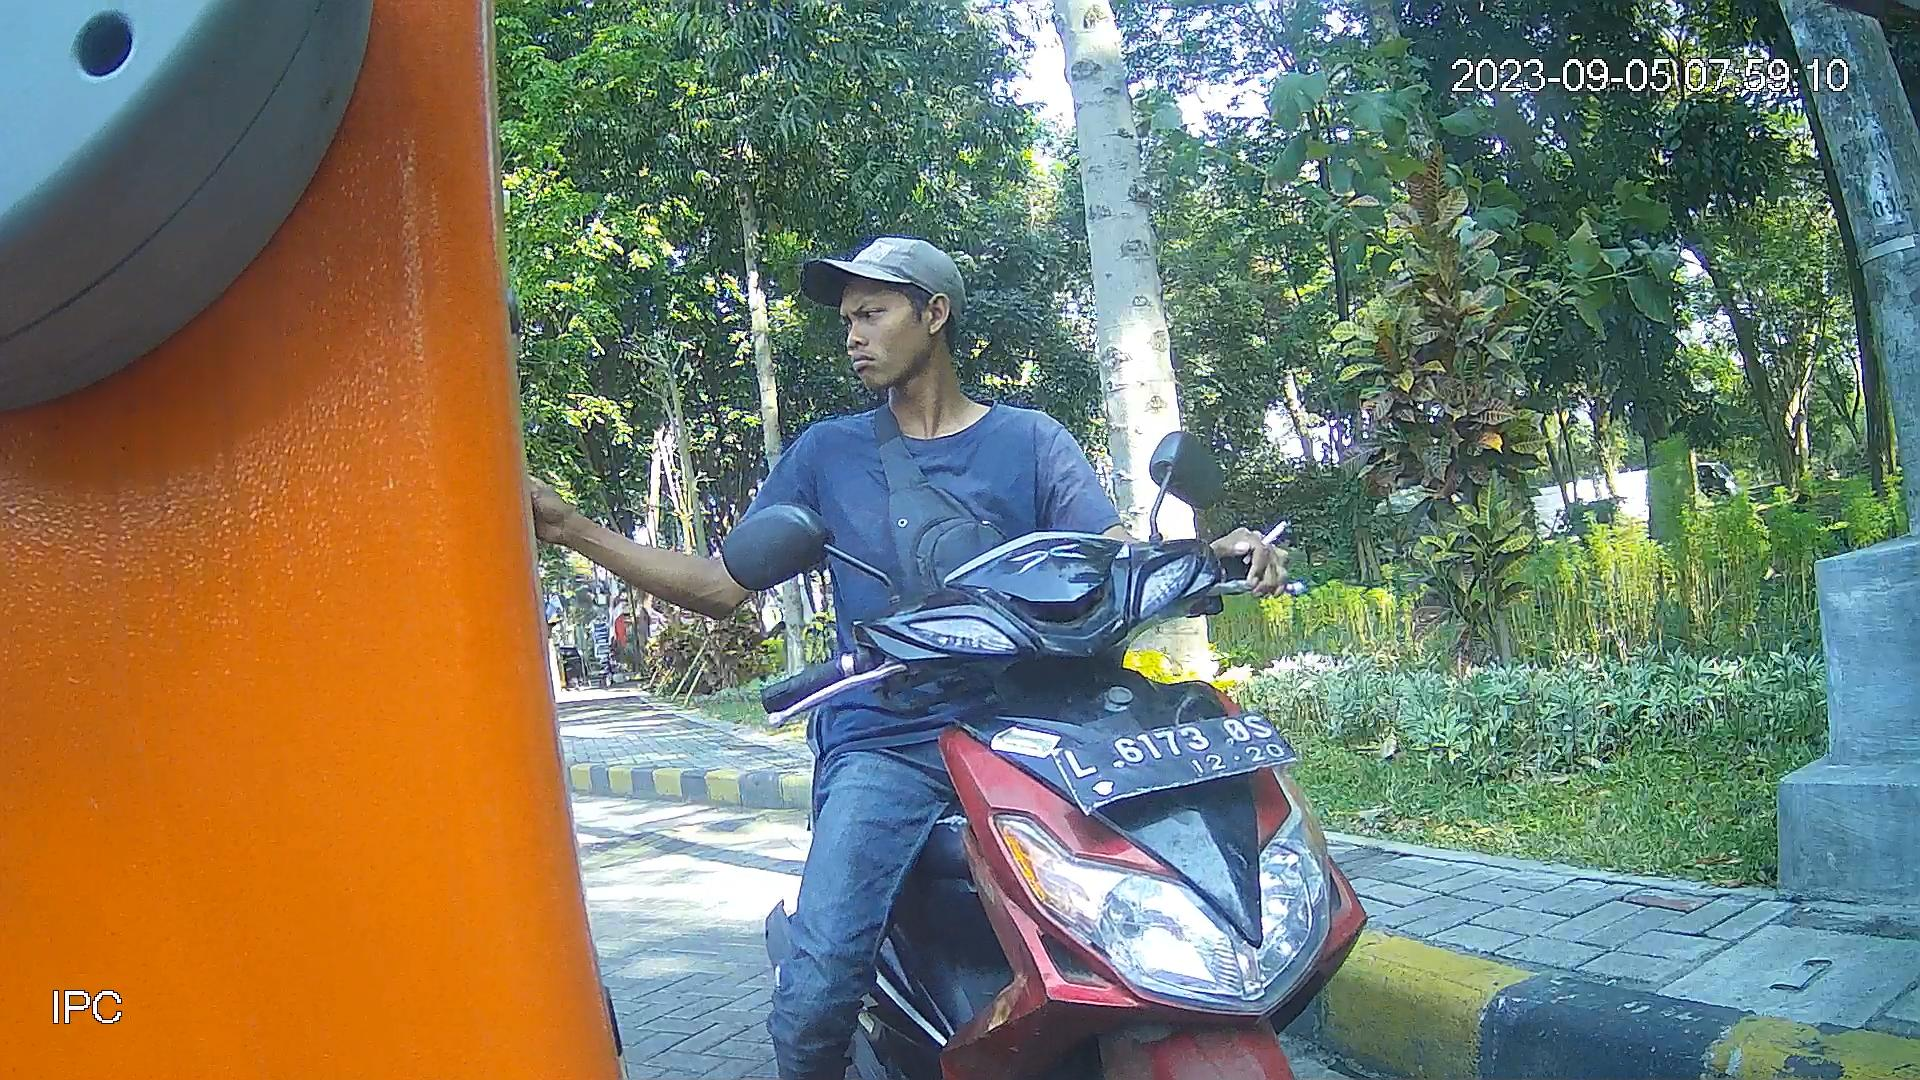plat: (1046, 708, 1303, 816)
